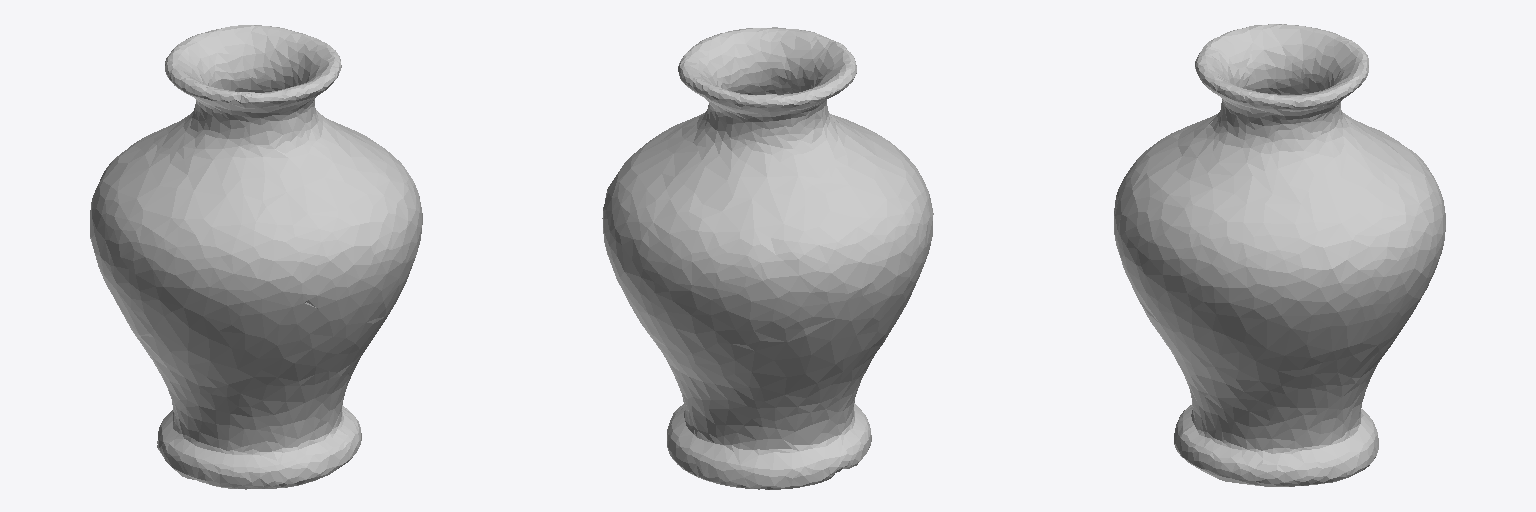
The model's file is nrcc_vase1.obj.
3 renders of one model, left to right at view 1: azimuth 30°, elevation 25°; view 2: azimuth 150°, elevation 25°; view 3: azimuth 270°, elevation 25°, orthographic.
Size of the model in its own units: 1.53 by 2 by 1.53.